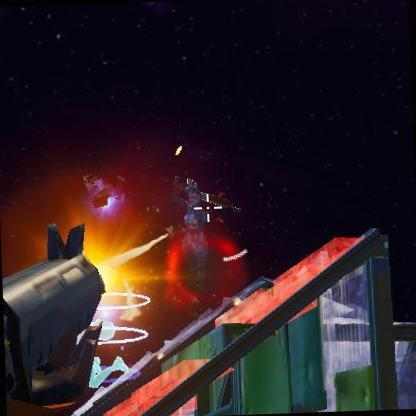person: (177, 182, 229, 282)
